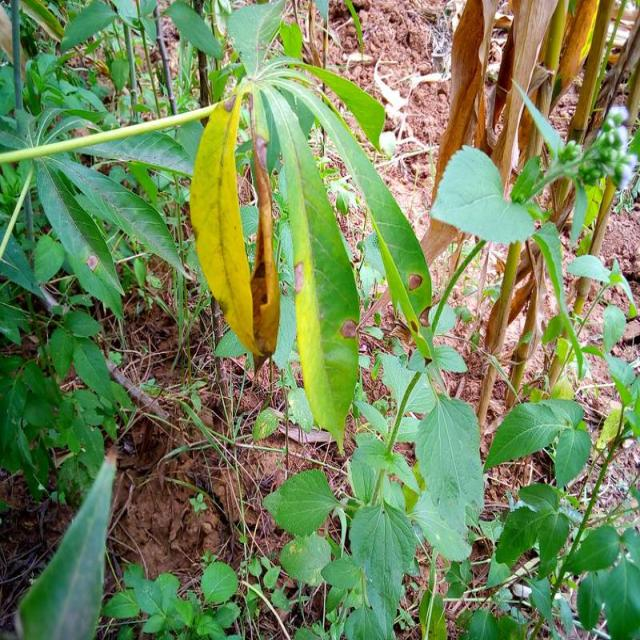cassava leaf: (254, 80, 361, 453), (188, 92, 259, 356), (429, 143, 535, 245)
